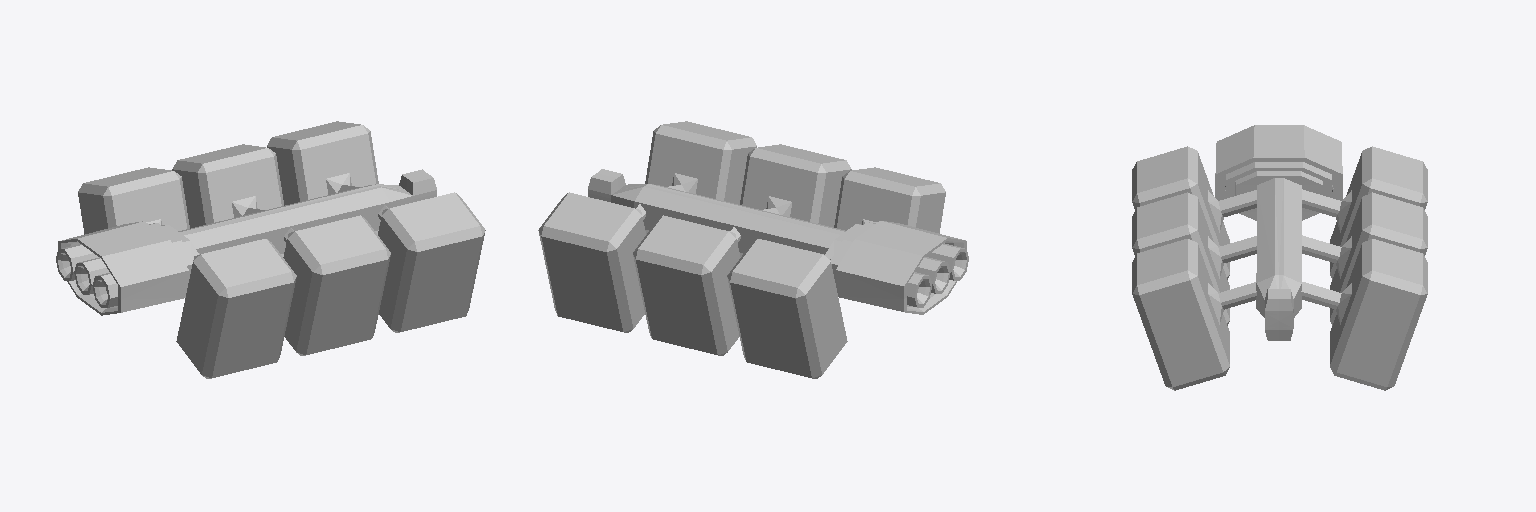
Rendered from oxana.obj.
3 views of the same model, side by side, from view 1: azimuth 30°, elevation 25°; view 2: azimuth 150°, elevation 25°; view 3: azimuth 270°, elevation 25° (orthographic).
Parts seen in each view (by area): view 1: Cube_Cube.002, main_Cube; view 2: Cube_Cube.002, main_Cube; view 3: Cube_Cube.002, main_Cube.
Boxes of the visible parts, x1=… form: Cube_Cube.002: x1=78, y1=121, x2=485, y2=378; main_Cube: x1=56, y1=169, x2=436, y2=315; Cube_Cube.002: x1=538, y1=121, x2=945, y2=378; main_Cube: x1=588, y1=169, x2=968, y2=314; Cube_Cube.002: x1=1132, y1=146, x2=1427, y2=390; main_Cube: x1=1215, y1=125, x2=1342, y2=340.
Bounding box in the file's own units: 15.38 × 5.1 × 11.35.